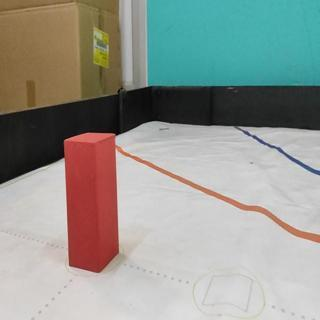redbox: (63, 131, 121, 273)
